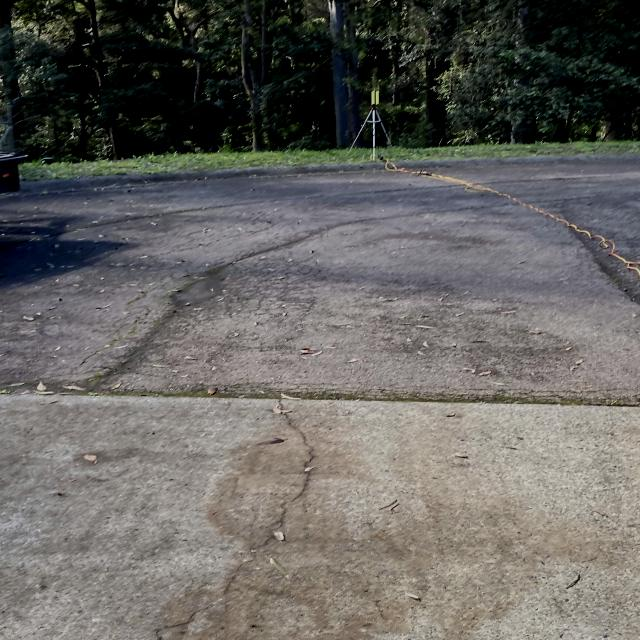matrix: (369, 88, 384, 105)
